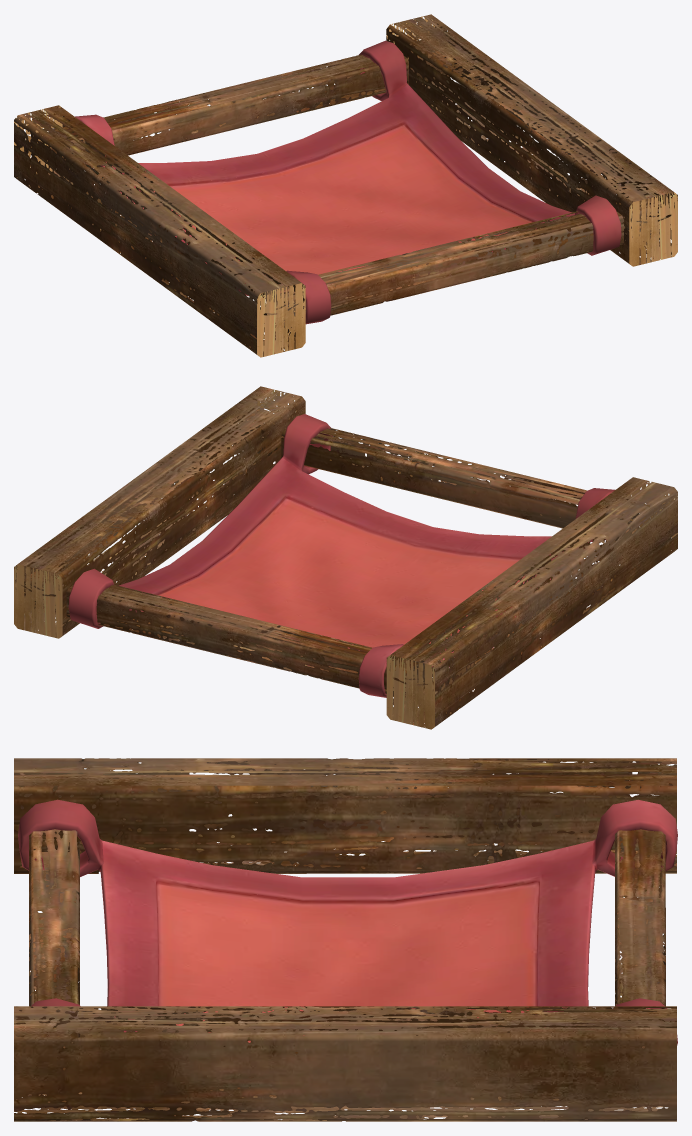
3 renders of one model, top to bottom at view 1: azimuth 30°, elevation 25°; view 2: azimuth 150°, elevation 25°; view 3: azimuth 270°, elevation 25°, orthographic. The views are drawn at different scales.
Parts seen in each view (by area): view 1: SM_BB_T4_Roof_Med_01_LOD0; view 2: SM_BB_T4_Roof_Med_01_LOD0; view 3: SM_BB_T4_Roof_Med_01_LOD0.
Part boxes in pixels (left/top/right/bottom): SM_BB_T4_Roof_Med_01_LOD0: left=14, top=14, right=677, bottom=357; SM_BB_T4_Roof_Med_01_LOD0: left=14, top=386, right=677, bottom=729; SM_BB_T4_Roof_Med_01_LOD0: left=14, top=758, right=677, bottom=1121.
Bounding box in the file's own units: 1.5 × 0.288 × 1.5.
Materials: 2 (2 with a texture image).
